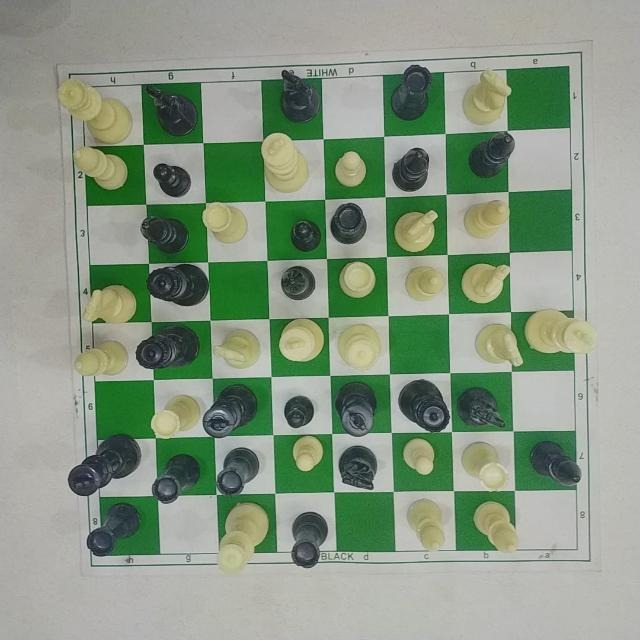black-bishop: (527, 435, 588, 490), (133, 211, 194, 254), (467, 130, 519, 177), (392, 141, 435, 196), (278, 261, 325, 304)
black-king: (58, 432, 141, 495), (332, 379, 382, 442), (206, 382, 258, 438)
black-knight: (143, 78, 211, 143), (276, 62, 326, 128), (459, 381, 507, 433), (338, 443, 381, 495)
black-pawn: (150, 157, 194, 200), (278, 391, 319, 431), (288, 212, 326, 251)
black-queen: (396, 374, 455, 436), (146, 259, 212, 308), (135, 327, 203, 374)
black-rook: (82, 502, 147, 559), (388, 58, 443, 124), (150, 449, 202, 505), (291, 510, 331, 572), (215, 447, 262, 497), (329, 202, 368, 248)
white-bishop: (70, 144, 131, 198), (467, 499, 523, 555), (462, 193, 515, 245), (72, 338, 135, 381), (402, 498, 450, 554), (403, 260, 450, 305)
white-king: (252, 128, 316, 197), (525, 302, 598, 360), (273, 314, 329, 366)
white-knight: (460, 64, 516, 127), (471, 319, 527, 375), (79, 282, 142, 327), (458, 258, 513, 306), (393, 206, 441, 253), (212, 327, 262, 371)
white-pawn: (402, 438, 441, 478), (287, 435, 327, 473), (333, 149, 367, 191)
white-queen: (56, 78, 138, 146), (218, 501, 274, 573), (333, 318, 387, 374)
white-rook: (460, 439, 510, 495), (202, 200, 254, 250), (149, 392, 201, 440), (338, 258, 380, 302)
